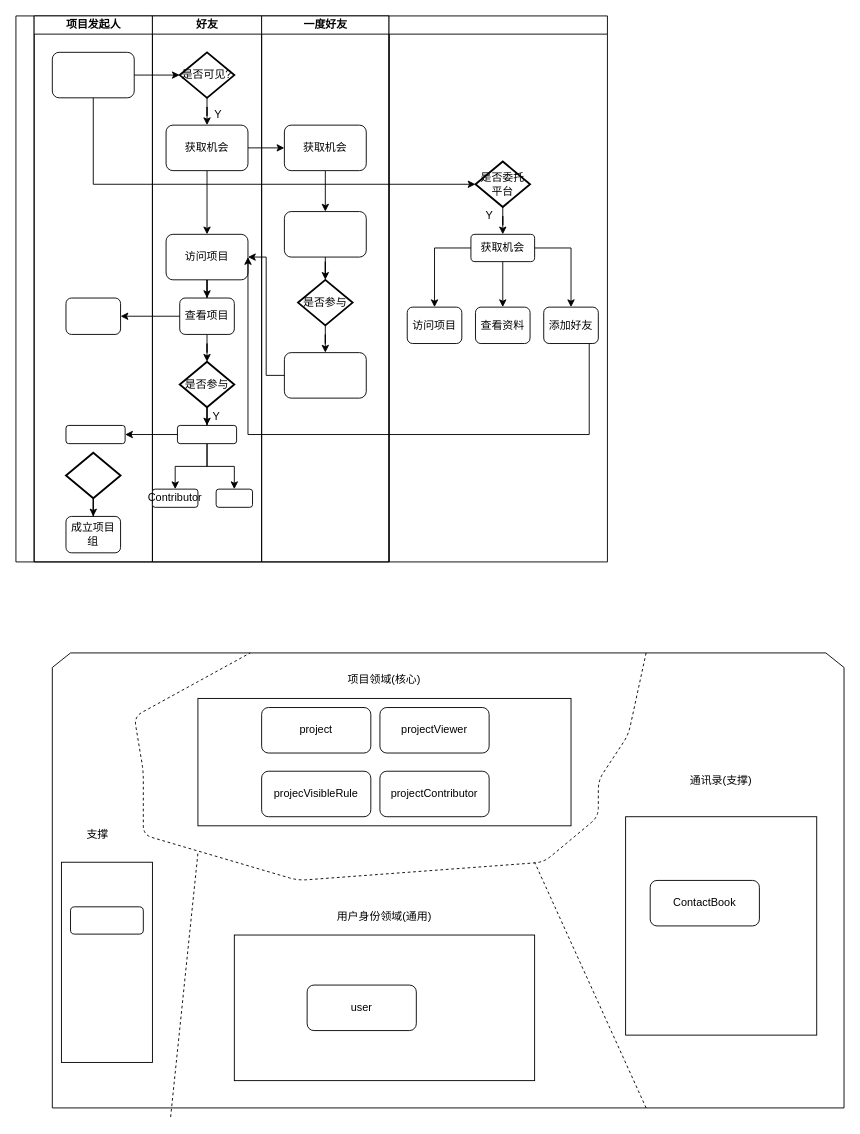
Some shapes in this 860 by 1134 pixel diagram are drawn without their labels. Each missing label, with the box of its shape:
Closer: (215, 488, 253, 507)
FinBook: (15, 15, 389, 562)
Recommend: (70, 906, 143, 934)
创建项目: (51, 51, 134, 98)
参与通知: (65, 425, 125, 444)
参与项目: (177, 425, 237, 444)
成为一度好友: (283, 352, 366, 398)
是否结束: (65, 451, 121, 499)
查看通知: (65, 297, 121, 334)
通知好友参与项目: (283, 211, 366, 257)
非好友: (388, 15, 607, 562)
